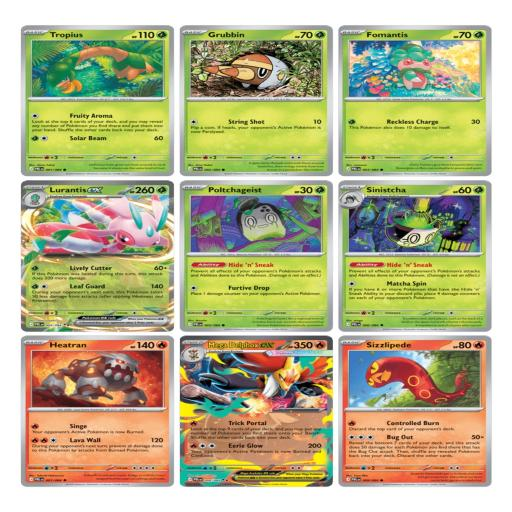card: (14, 177, 188, 335), (169, 25, 342, 177), (331, 334, 496, 489), (330, 177, 497, 329), (171, 335, 342, 483), (13, 24, 179, 176), (330, 25, 496, 175), (14, 337, 176, 489), (177, 182, 333, 332)
